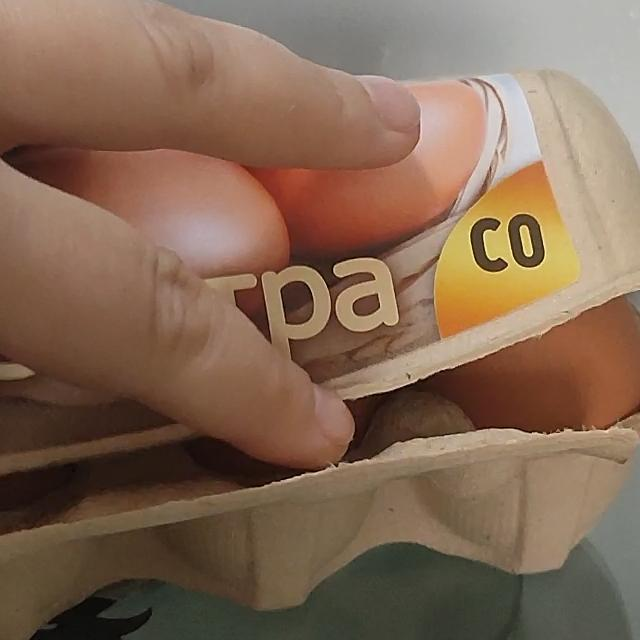egg: (0, 50, 640, 637)
